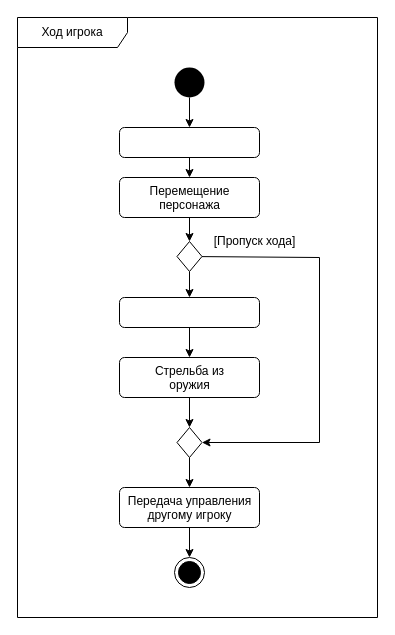
Image size: 395x635. Some labels were removed from this diagram. Each missing label, with the centre of its shape:
Выбор оружия: (x=189, y=312)
Начало хода: (x=189, y=142)
